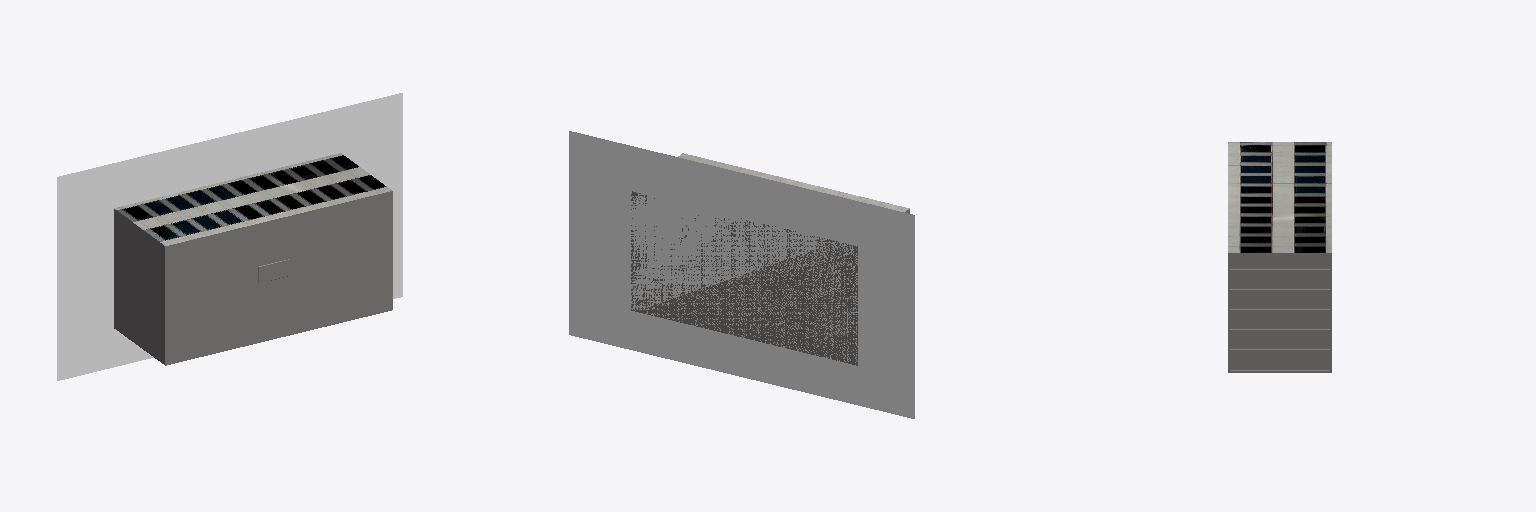
3 renders of one model, left to right at view 1: azimuth 30°, elevation 25°; view 2: azimuth 150°, elevation 25°; view 3: azimuth 270°, elevation 25°, orthographic.
Visible parts, largest first — view 1: Box262, Plane01, Object01, Box263; view 2: Plane01, Box262, Object01; view 3: Box262, Object01.
Boxes of the visible parts, <box> form: Box262: <box>114,191,392,365</box>; Plane01: <box>57,93,402,380</box>; Object01: <box>114,153,391,245</box>; Box263: <box>258,259,288,282</box>; Plane01: <box>569,131,914,418</box>; Box262: <box>631,191,909,365</box>; Object01: <box>678,153,909,212</box>; Box262: <box>1228,253,1331,372</box>; Object01: <box>1228,142,1331,252</box>.
Bounding box in the file's own units: 493 × 277 × 128.
4 materials, 1 textured.